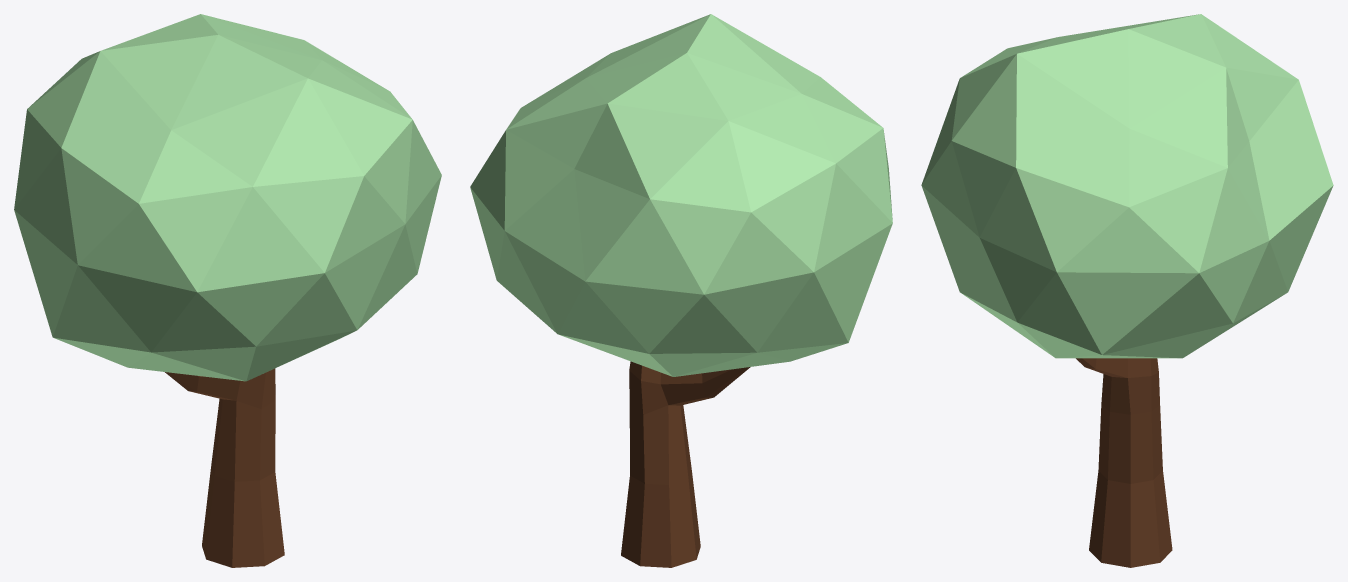
The model's file is Tree2, Short_Skinny.fbx.
3 views of the same model, side by side, from view 1: azimuth 30°, elevation 25°; view 2: azimuth 150°, elevation 25°; view 3: azimuth 270°, elevation 25° (orthographic). The views are drawn at different scales.
Parts seen in each view (by area): view 1: Tree2; view 2: Tree2; view 3: Tree2.
Part boxes in pixels (left/top/right/bottom): Tree2: left=14, top=14, right=441, bottom=567; Tree2: left=470, top=14, right=892, bottom=567; Tree2: left=921, top=14, right=1333, bottom=567.
Size of the model in its own units: 204 by 278 by 204.
